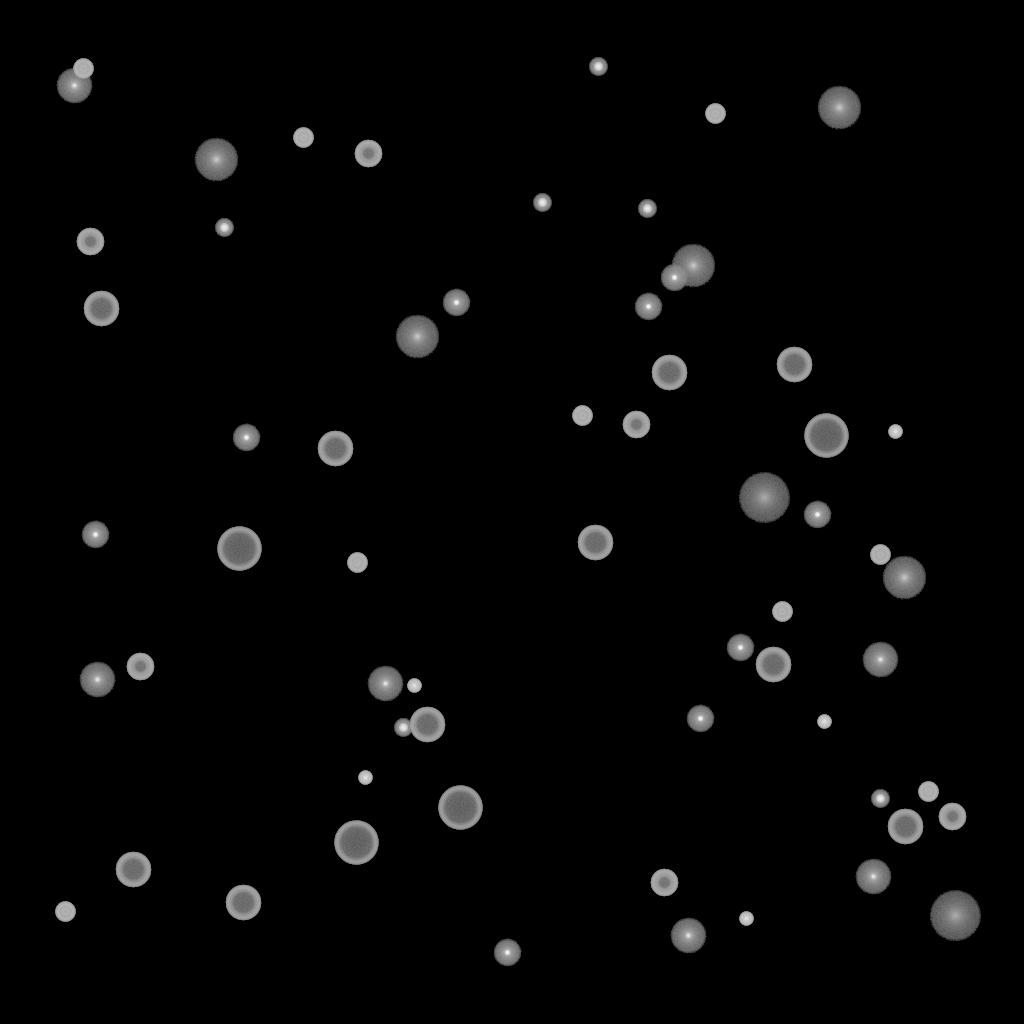depth:-10: (803, 501, 831, 529), (726, 634, 754, 662), (232, 424, 260, 452), (442, 289, 470, 317), (81, 521, 109, 549), (493, 939, 521, 967), (686, 705, 714, 733), (634, 293, 662, 321), (660, 264, 688, 292)
depth:-20: (638, 200, 656, 218), (589, 58, 607, 76), (394, 719, 412, 737), (533, 194, 551, 212), (871, 790, 889, 808), (215, 219, 233, 237)
depth:-30: (888, 425, 902, 439), (739, 912, 753, 926), (407, 679, 421, 693), (817, 715, 831, 729), (358, 771, 372, 785)
depth:-40: (772, 602, 792, 622), (55, 902, 75, 922), (293, 128, 313, 148), (705, 104, 725, 124), (73, 59, 93, 79), (918, 782, 938, 802), (870, 545, 890, 565), (572, 406, 592, 426), (347, 553, 367, 573)
depth:-50: (650, 869, 678, 897), (938, 803, 966, 831), (76, 228, 104, 256), (622, 411, 650, 439), (354, 140, 382, 168), (126, 653, 154, 681)
depth:-60: (887, 809, 923, 845), (83, 291, 119, 327), (409, 707, 445, 743), (651, 355, 687, 391), (755, 647, 791, 683), (577, 525, 613, 561), (317, 431, 353, 467), (776, 347, 812, 383), (115, 852, 151, 888), (225, 885, 261, 921)
depth:-70: (438, 786, 482, 830), (334, 821, 378, 865), (217, 527, 261, 571), (804, 414, 848, 458)
depth:0: (367, 666, 403, 702), (56, 68, 92, 104), (670, 918, 706, 954), (855, 859, 891, 895), (79, 662, 115, 698), (862, 642, 898, 678)
depth:10: (817, 86, 861, 130), (395, 315, 439, 359), (671, 244, 715, 288), (882, 556, 926, 600), (194, 138, 238, 182)
depth:20: (738, 473, 790, 523), (929, 891, 981, 941)
